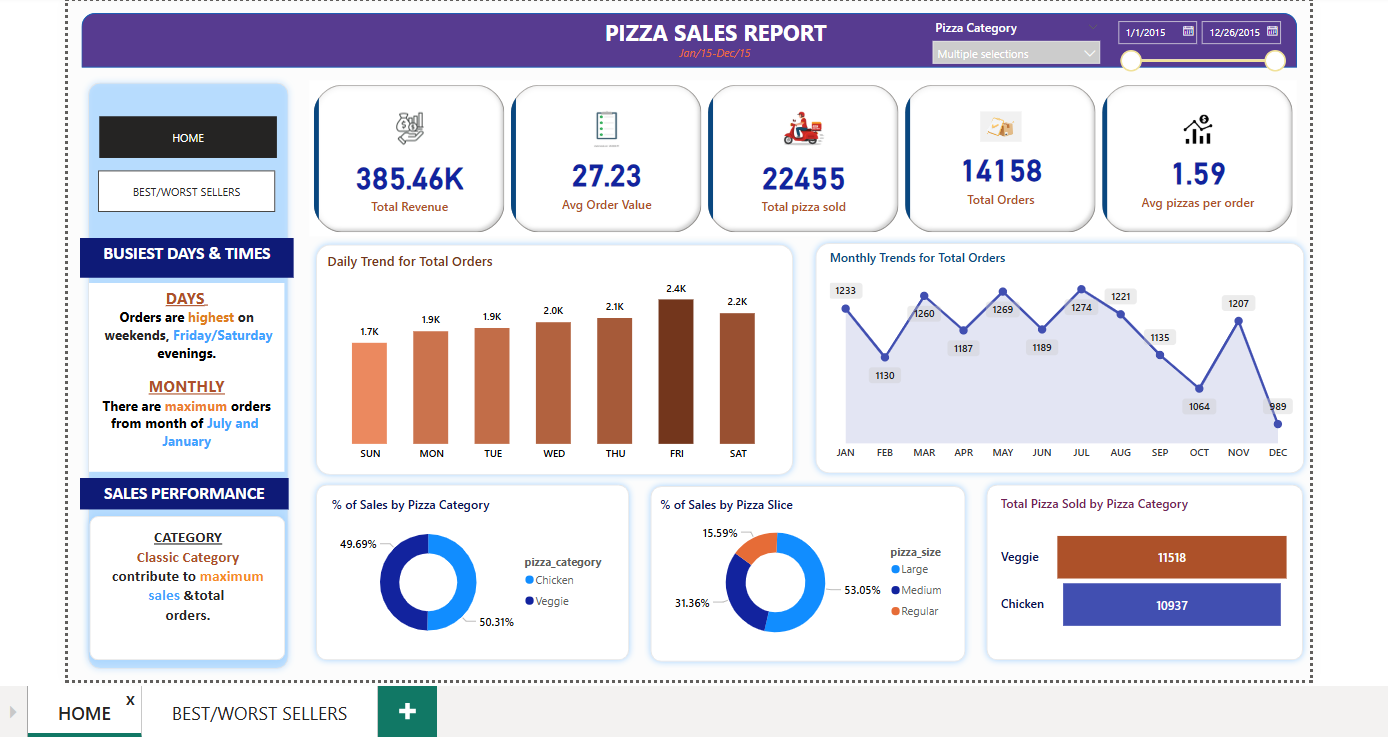

What the dashboard file says about the page in this screenshot:
{"tool":"powerbi","page":{"name":"HOME","canvas":[1500,820],"ordinal":0},"visuals":[{"type":"cardVisual","fields":{"Data":["pizza_db pizza_sales.Total Revenue","pizza_db pizza_sales.Avg Order Value","pizza_db pizza_sales.Total pizza sold","pizza_db pizza_sales.Total Orders","pizza_db pizza_sales.Avg pizzas per order"]},"box":[292,96,1192,188],"z":0},{"type":"shape","box":[16,14,1468,66],"z":1000},{"type":"textbox","box":[572,14,420,48],"z":2000},{"type":"textbox","box":[708,48,146,42],"z":3000},{"type":"shape","box":[292,286,592,294],"z":4000},{"type":"columnChart","title":"Daily Trend for Total Orders","fields":{"Category":["pizza_db pizza_sales.Order Day"],"Y":["pizza_db pizza_sales.Total Orders"]},"box":[308,302,558,262],"z":5000},{"type":"shape","box":[894,284,606,294],"z":6000},{"type":"areaChart","title":"Monthly Trends for Total Orders","fields":{"Y":["pizza_db pizza_sales.Total Orders"],"Category":["pizza_db pizza_sales.Order Month"]},"box":[914,298,570,264],"z":7000},{"type":"shape","box":[292,576,394,228],"z":8000},{"type":"shape","box":[696,578,396,228],"z":9000},{"type":"shape","box":[1102,576,398,228],"z":10000},{"type":"donutChart","title":"% of Sales by Pizza Category","fields":{"Category":["pizza_db pizza_sales.pizza_category"],"Y":["pizza_db pizza_sales.Total Revenue"]},"box":[314,598,352,188],"z":11000},{"type":"donutChart","title":"% of Sales by Pizza Slice","fields":{"Category":["pizza_db pizza_sales.pizza_size"],"Y":["pizza_db pizza_sales.Total Revenue"]},"box":[710,598,368,188],"z":12000},{"type":"funnel","title":"Total Pizza Sold by Pizza Category","fields":{"Category":["pizza_db pizza_sales.pizza_category"],"Y":["pizza_db pizza_sales.Total pizza sold"]},"box":[1122,596,360,188],"z":13000},{"type":"shape","box":[16,90,258,724],"z":14000},{"type":"textbox","box":[14,286,258,48],"z":15000},{"type":"textbox","box":[26,340,236,228],"z":16000},{"type":"shape","box":[18,614,252,190],"z":17000},{"type":"textbox","box":[38,630,214,156],"z":18000},{"type":"textbox","box":[14,576,252,38],"z":19000},{"type":"slicer","fields":{"Values":["pizza_db pizza_sales.pizza_category"]},"box":[1034,16,222,66],"z":20000},{"type":"slicer","fields":{"Values":["pizza_db pizza_sales.order_date"]},"box":[1256,14,226,76],"z":21000},{"type":"pageNavigator","box":[38,140,214,50],"z":22000},{"type":"pageNavigator","box":[36,204,214,50],"z":23000}]}

Visuals, with their boxes on the page's 1500x820 design canvas (x1, y1, x2, y2). These are canvas units, not pixel positions in the 1388x737 screenshot, which may show the page scaled, cropped or inside an application window:
cardVisual - pizza_db pizza_sales.Total Revenue x pizza_db pizza_sales.Avg Order Value: {"left": 292, "top": 96, "right": 1484, "bottom": 284}
shape: {"left": 16, "top": 14, "right": 1484, "bottom": 80}
textbox: {"left": 572, "top": 14, "right": 992, "bottom": 62}
textbox: {"left": 708, "top": 48, "right": 854, "bottom": 90}
shape: {"left": 292, "top": 286, "right": 884, "bottom": 580}
"Daily Trend for Total Orders" columnChart: {"left": 308, "top": 302, "right": 866, "bottom": 564}
shape: {"left": 894, "top": 284, "right": 1500, "bottom": 578}
"Monthly Trends for Total Orders" areaChart: {"left": 914, "top": 298, "right": 1484, "bottom": 562}
shape: {"left": 292, "top": 576, "right": 686, "bottom": 804}
shape: {"left": 696, "top": 578, "right": 1092, "bottom": 806}
shape: {"left": 1102, "top": 576, "right": 1500, "bottom": 804}
"% of Sales by Pizza Category" donutChart: {"left": 314, "top": 598, "right": 666, "bottom": 786}
"% of Sales by Pizza Slice" donutChart: {"left": 710, "top": 598, "right": 1078, "bottom": 786}
"Total Pizza Sold by Pizza Category" funnel: {"left": 1122, "top": 596, "right": 1482, "bottom": 784}
shape: {"left": 16, "top": 90, "right": 274, "bottom": 814}
textbox: {"left": 14, "top": 286, "right": 272, "bottom": 334}
textbox: {"left": 26, "top": 340, "right": 262, "bottom": 568}
shape: {"left": 18, "top": 614, "right": 270, "bottom": 804}
textbox: {"left": 38, "top": 630, "right": 252, "bottom": 786}
textbox: {"left": 14, "top": 576, "right": 266, "bottom": 614}
slicer - pizza_db pizza_sales.pizza_category: {"left": 1034, "top": 16, "right": 1256, "bottom": 82}
slicer - pizza_db pizza_sales.order_date: {"left": 1256, "top": 14, "right": 1482, "bottom": 90}
pageNavigator: {"left": 38, "top": 140, "right": 252, "bottom": 190}
pageNavigator: {"left": 36, "top": 204, "right": 250, "bottom": 254}
